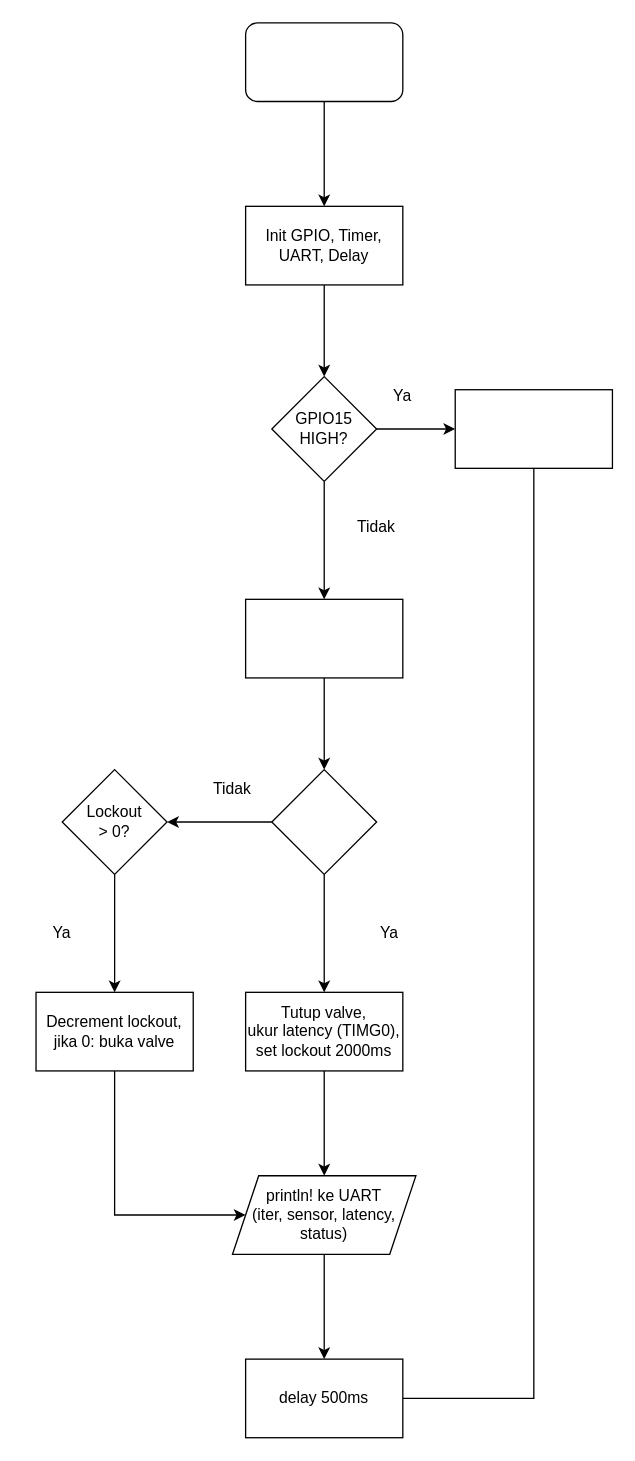
Some shapes in this 635 by 1461 pixel diagram are drawn without their labels. The box of each missing label's shape, as (x1, y1, x2, y2) in pixels:
Anomali ≥ 2?: (271, 768, 377, 874)
Baca sensor state (critical_section): (244, 598, 403, 678)
Inject Fault: vib=9999, temp=99: (454, 388, 612, 468)
Start: (244, 22, 403, 102)
